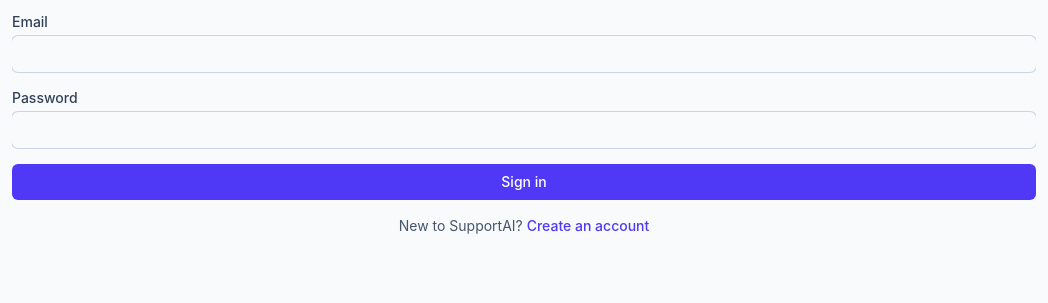
it: LoginForm › shows the backend's error and stays on the page when credentials are wrong
Type "owner@abc.com" into the field labelled "Email" at (524, 54), box [12,36,1036,72]
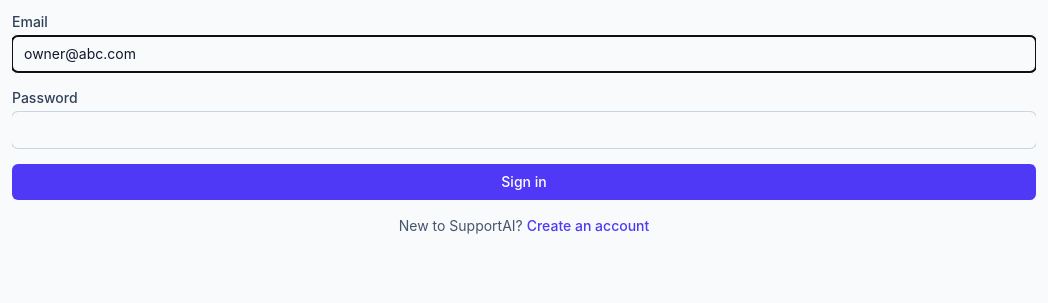
Type "nope" into the password field labelled "Password" at (524, 130), box [12,112,1036,148]
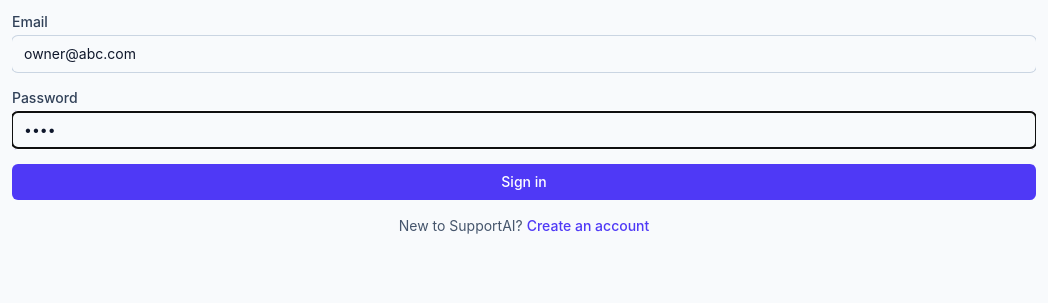
Click the button "Sign in" at (524, 182), box [12,164,1036,200]
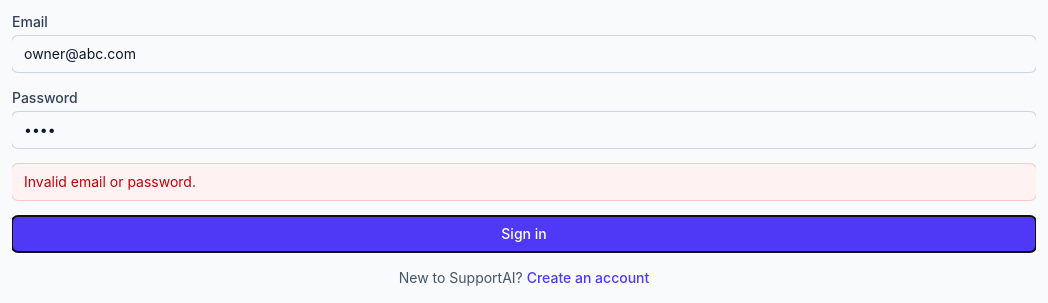
Now the message reads "Invalid email or password.", box [24,173,196,190]
